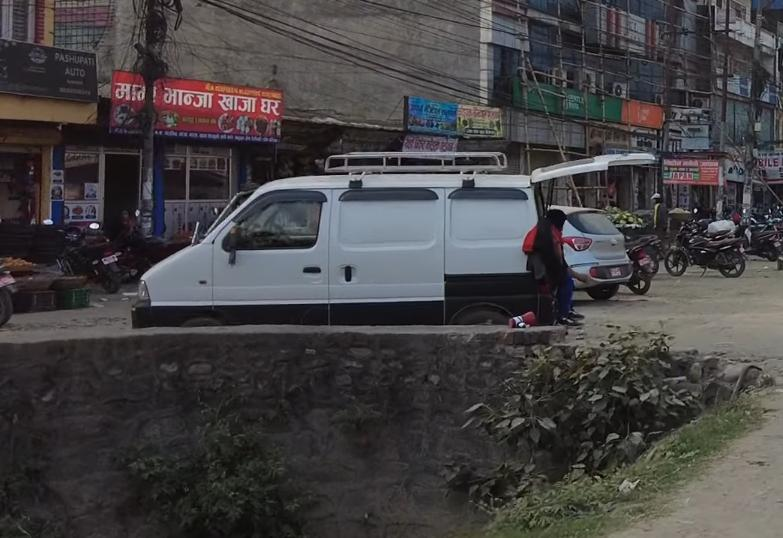car: (540, 196, 634, 307)
van: (142, 144, 575, 369)
